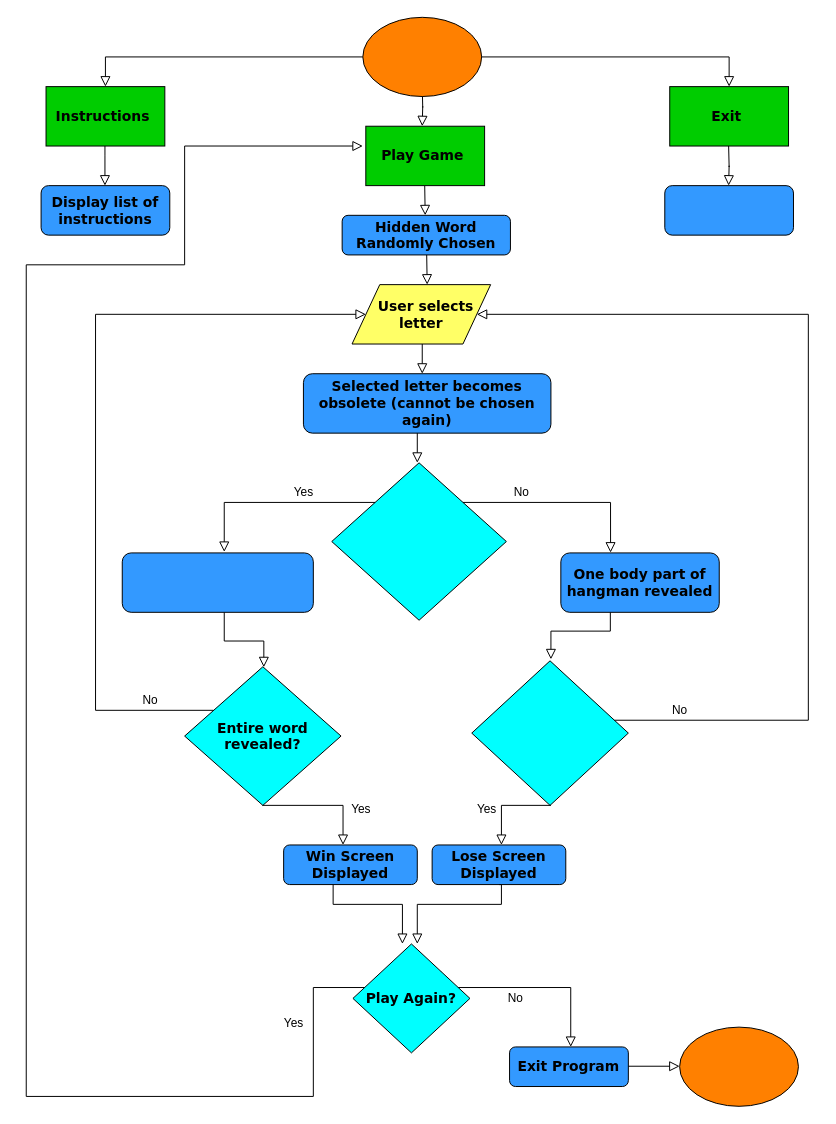
This 836x1124 diagram has some shape labels left out. Here are the shapes that lost their labels. From the top down, the box of each, then its label:
(362, 16, 482, 97): Start
(664, 185, 793, 235): Exits Program
(331, 462, 506, 620): Is letter within the hidden word?
(121, 552, 313, 612): Position(s) of selected letter within hidden word revealed
(471, 660, 628, 805): Entire body of hangman revealed?
(679, 1026, 798, 1106): End
